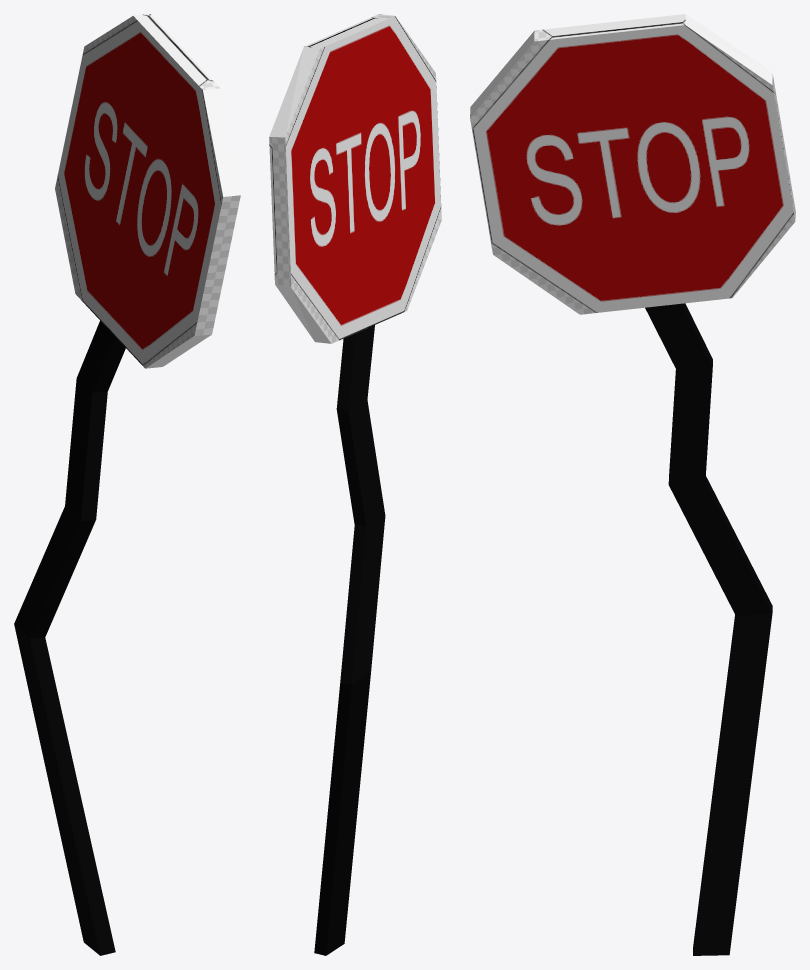
Rendered from Panneau.fbx.
3 views of the same model, side by side, from view 1: azimuth 30°, elevation 25°; view 2: azimuth 150°, elevation 25°; view 3: azimuth 270°, elevation 25° (orthographic). The views are drawn at different scales.
Parts seen in each view (by area): view 1: Panneau; view 2: Panneau; view 3: Panneau.
Part boxes in pixels (x1,y1,x2,y2): Panneau: [14, 14, 240, 955]; Panneau: [269, 14, 441, 955]; Panneau: [470, 14, 795, 955].
Bounding box in the file's own units: 27.93 × 260 × 80.99.
